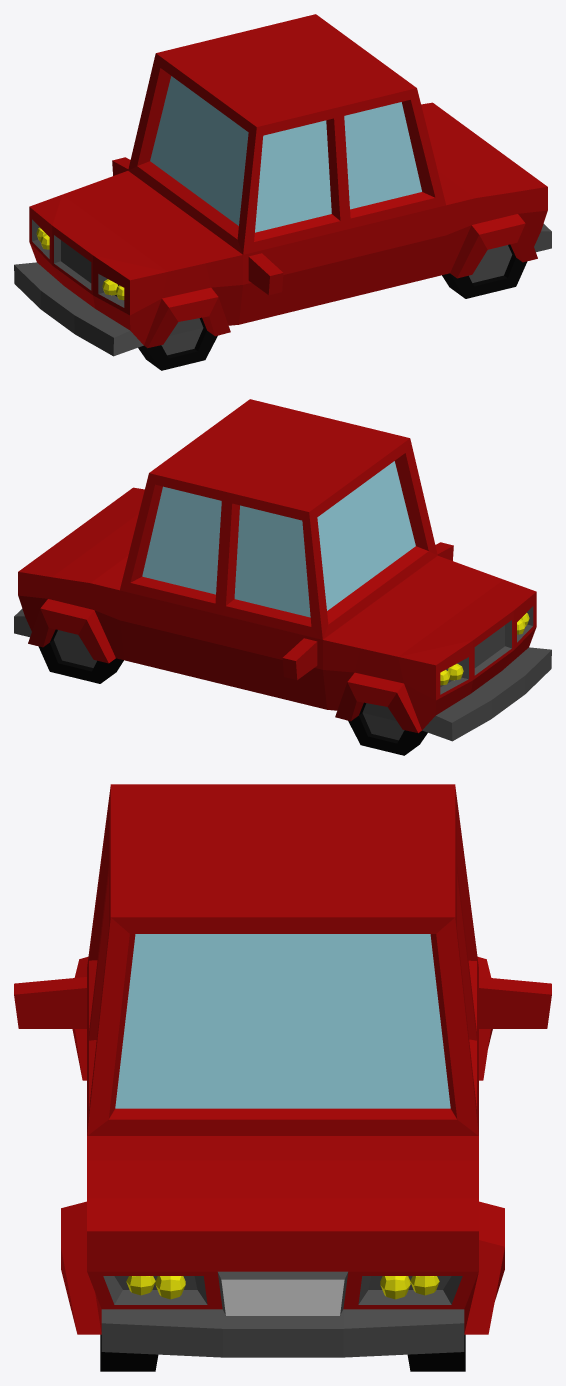
File: Car.fbx
3 renders of one model, top to bottom at view 1: azimuth 30°, elevation 25°; view 2: azimuth 150°, elevation 25°; view 3: azimuth 270°, elevation 25°, orthographic. The views are drawn at different scales.
Parts seen in each view (by area): view 1: Cube.191; view 2: Cube.191; view 3: Cube.191.
Boxes of the visible parts, x1,y1,x2,y2 form: Cube.191: (14, 14, 551, 370); Cube.191: (14, 399, 551, 755); Cube.191: (14, 784, 551, 1371).
Size of the model in its own units: 280 by 132 by 171.
